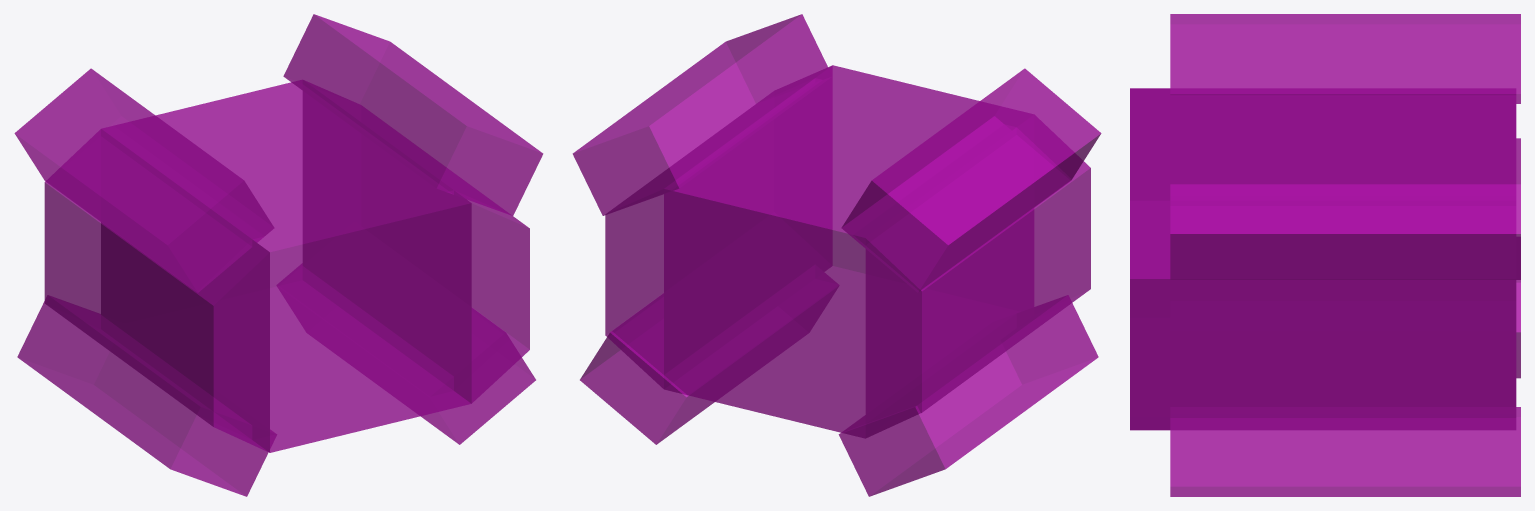
Rendered from SM_Veh_Ship_01_Engine_Collision.fbx.
The picture shows the model from 3 angles, left to right: view 1: azimuth 30°, elevation 25°; view 2: azimuth 150°, elevation 25°; view 3: azimuth 270°, elevation 25°; orthographic projection. The views are drawn at different scales.
Visible parts, largest first — view 1: SM_Veh_Ship_01_Engine_Collision; view 2: SM_Veh_Ship_01_Engine_Collision; view 3: SM_Veh_Ship_01_Engine_Collision.
Boxes of the visible parts, x1,y1,x2,y2 form: SM_Veh_Ship_01_Engine_Collision: (14, 14, 543, 496); SM_Veh_Ship_01_Engine_Collision: (572, 14, 1101, 496); SM_Veh_Ship_01_Engine_Collision: (1130, 14, 1520, 496).
Size of the model in its own units: 5853 by 4720 by 4608.
